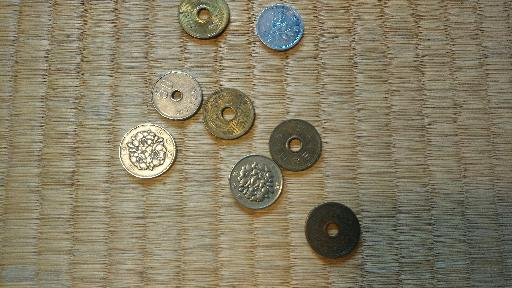100yen: (120, 124, 175, 177), (230, 156, 282, 208)
1yen: (256, 3, 303, 51)
50yen: (151, 71, 203, 120)
5yen: (305, 202, 360, 258), (269, 119, 322, 172), (203, 89, 255, 140), (179, 1, 230, 40)
